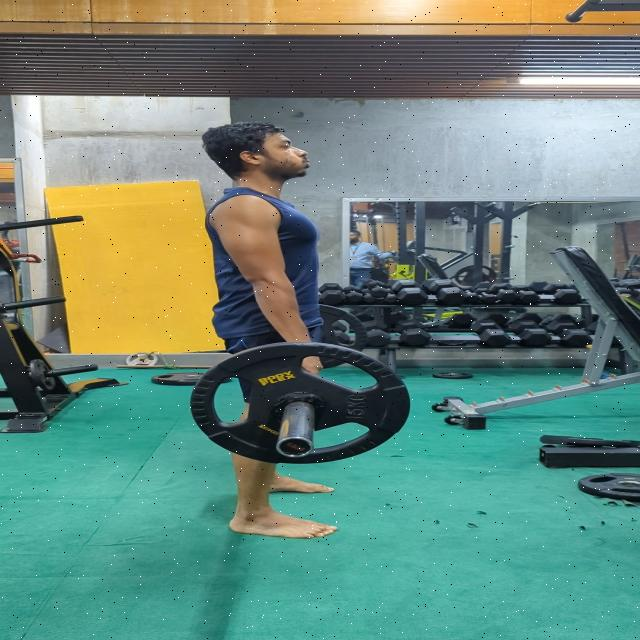Normal_Deadlifts: (198, 122, 342, 540)
